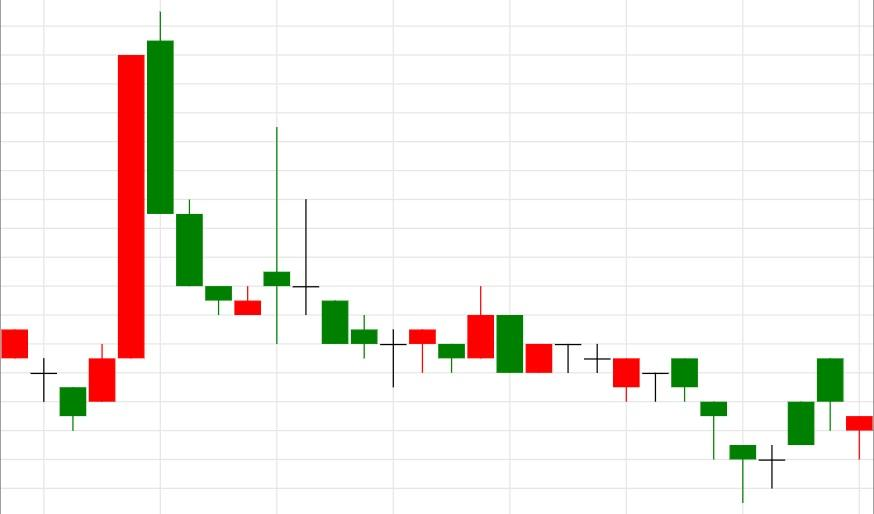three_black_crows_fall: (59, 11, 232, 432)
